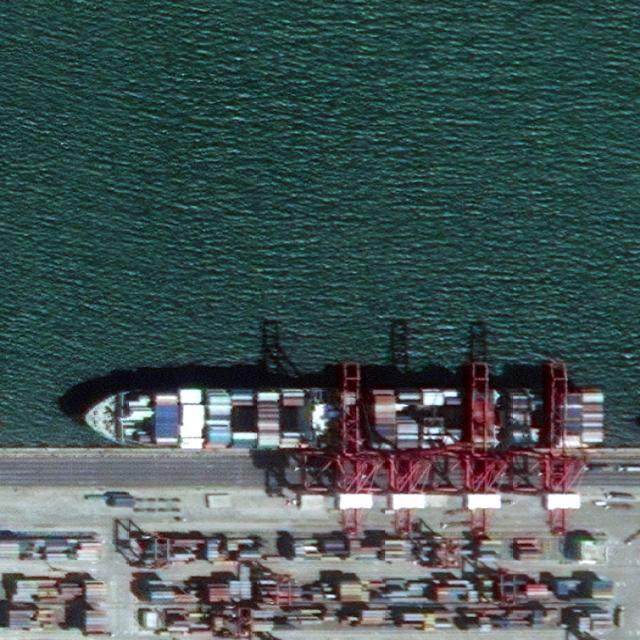Container Ship: (78, 386, 603, 449)
